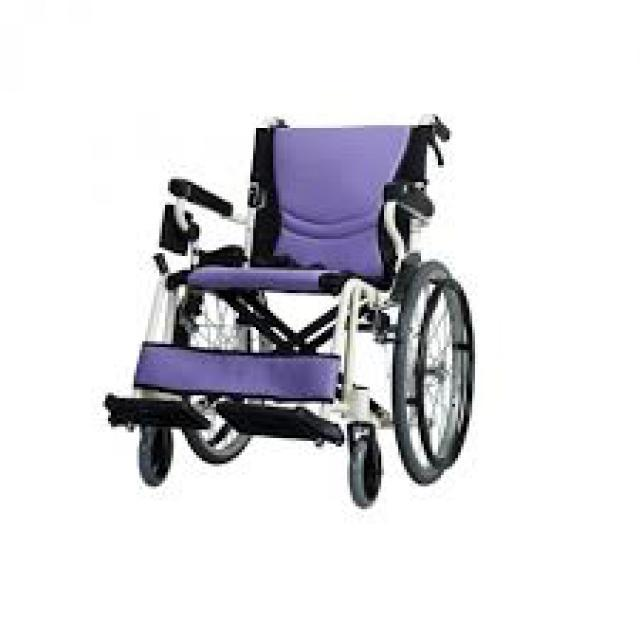wheelchair: (102, 102, 470, 532)
